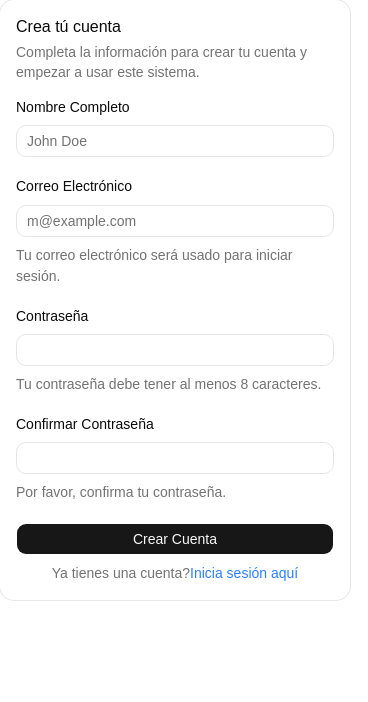
Test case: SignupForm › muestra un error cuando las contraseñas no coinciden
Type "12345678" into the password field labelled "Contraseña".
click(175, 350); type("12345678")  # box [16, 334, 334, 366]
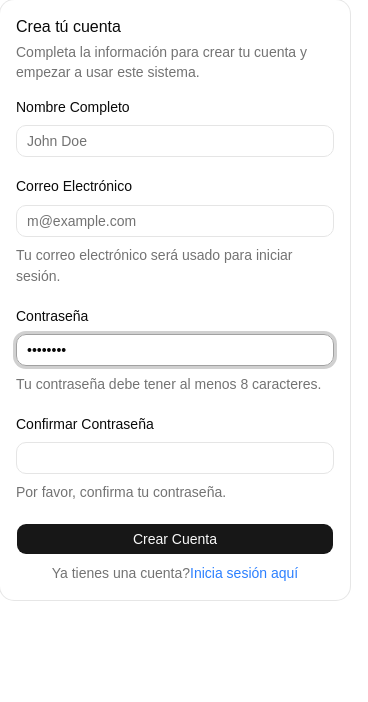
Type "87654321" into the password field labelled "Confirmar Contraseña".
click(175, 458); type("87654321")  # box [16, 442, 334, 474]
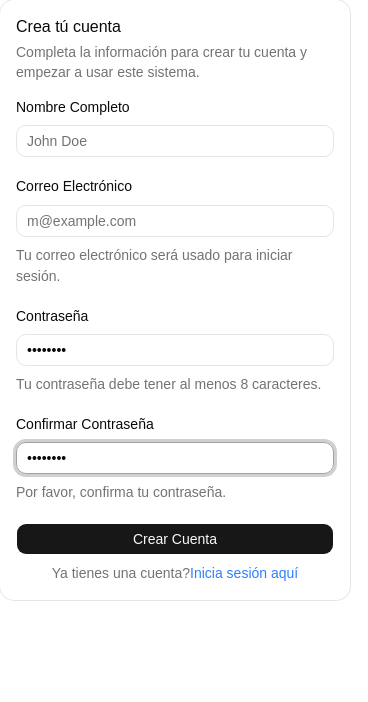
Click the button "Crear Cuenta".
click(175, 539)  # box [16, 523, 334, 555]
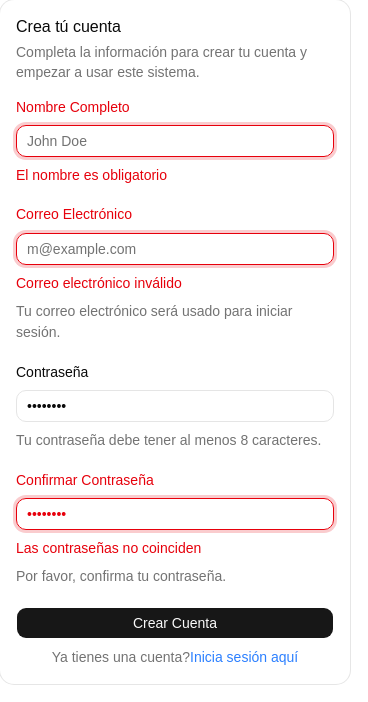
Expected: the text "Las contraseñas no coinciden" is shown, [16, 540, 201, 556]
